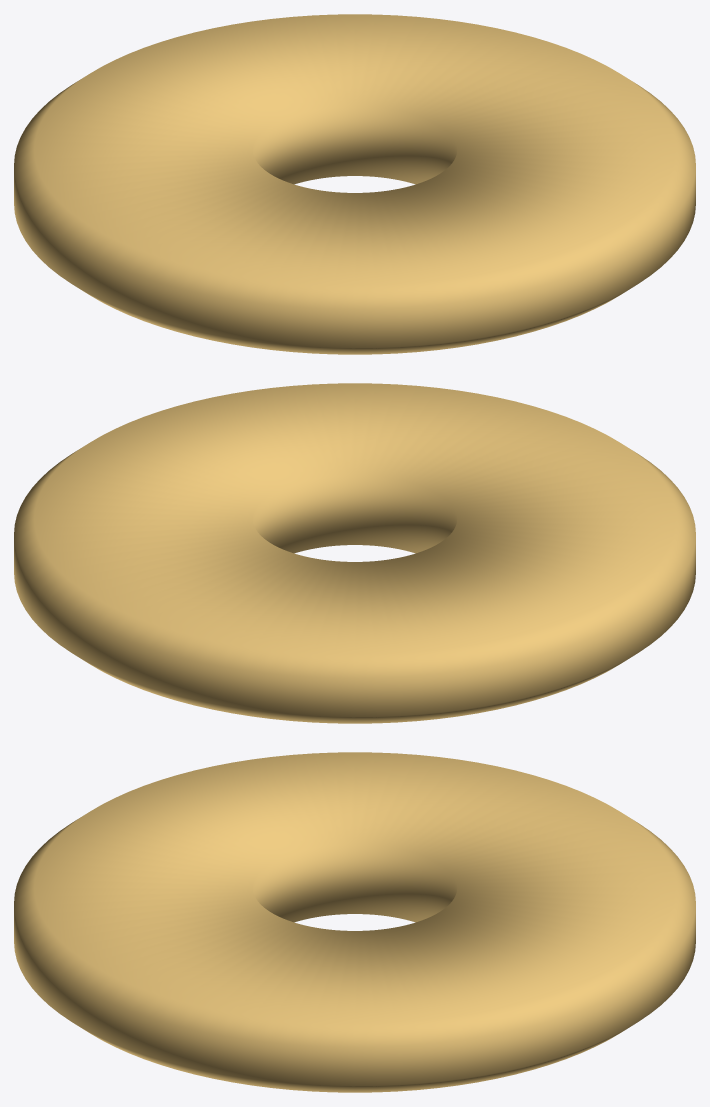
Rendered from spacer-06-gold.glb.
The picture shows the model from 3 angles, top to bottom: view 1: azimuth 30°, elevation 25°; view 2: azimuth 150°, elevation 25°; view 3: azimuth 270°, elevation 25°; orthographic projection.
Parts seen in each view (by area): view 1: Spacer with through bore.010; view 2: Spacer with through bore.010; view 3: Spacer with through bore.010.
Boxes of the visible parts, left/top/right/bottom form: Spacer with through bore.010: left=14, top=14, right=695, bottom=354; Spacer with through bore.010: left=14, top=383, right=695, bottom=723; Spacer with through bore.010: left=14, top=752, right=695, bottom=1092.
Bounding box in the file's own units: 0.004 × 0.00045 × 0.004.
